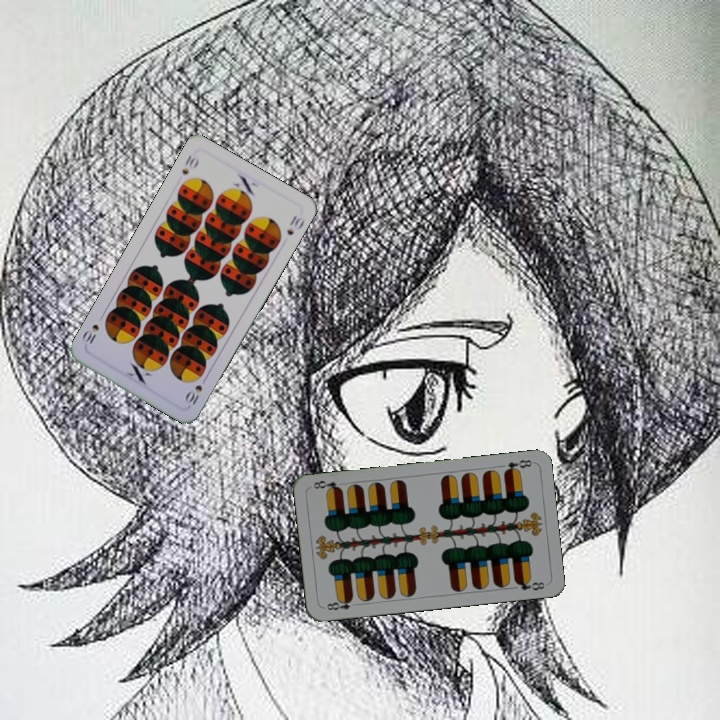E8: (320, 594, 361, 613), (500, 455, 534, 476)
S10: (181, 372, 210, 409), (178, 151, 201, 177)
